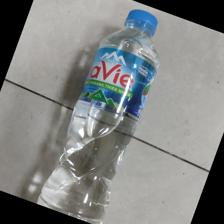Lavie: (34, 5, 158, 224)
